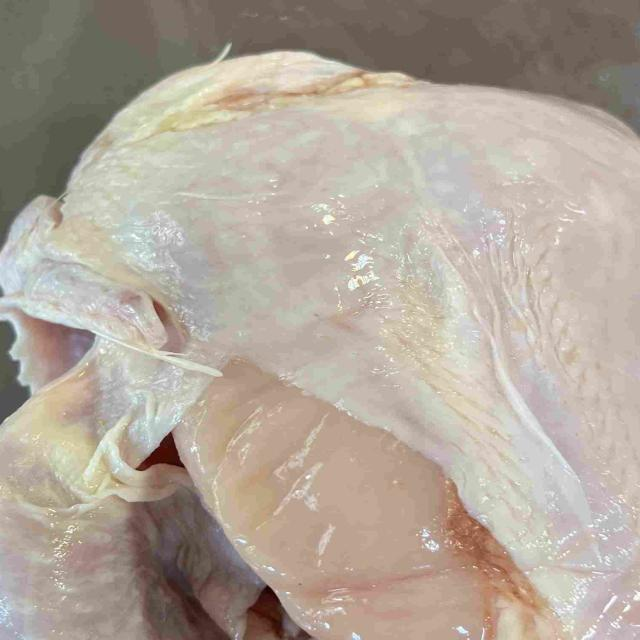breast: (15, 83, 640, 640)
leg: (0, 370, 158, 640)
